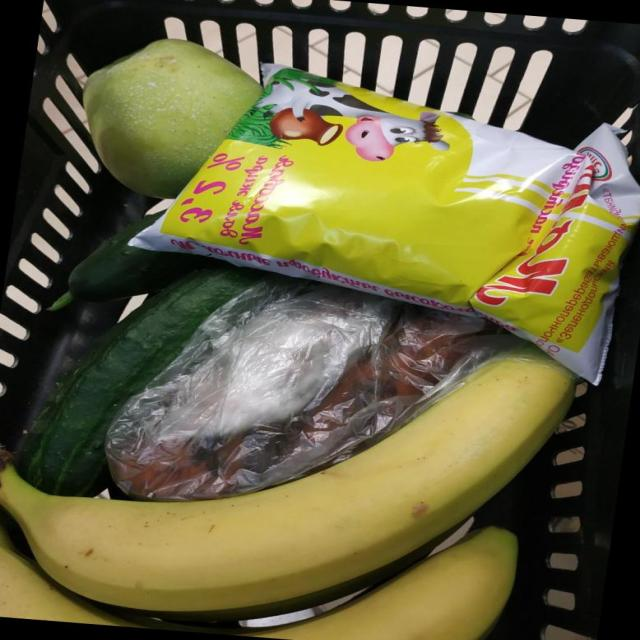Apple: (83, 38, 261, 197)
Banana: (0, 348, 574, 617), (205, 526, 517, 640)
Carrot: (330, 346, 444, 403), (108, 446, 216, 500)
Cucumber: (17, 267, 262, 496), (67, 211, 204, 300)
Milk: (130, 64, 640, 381)
